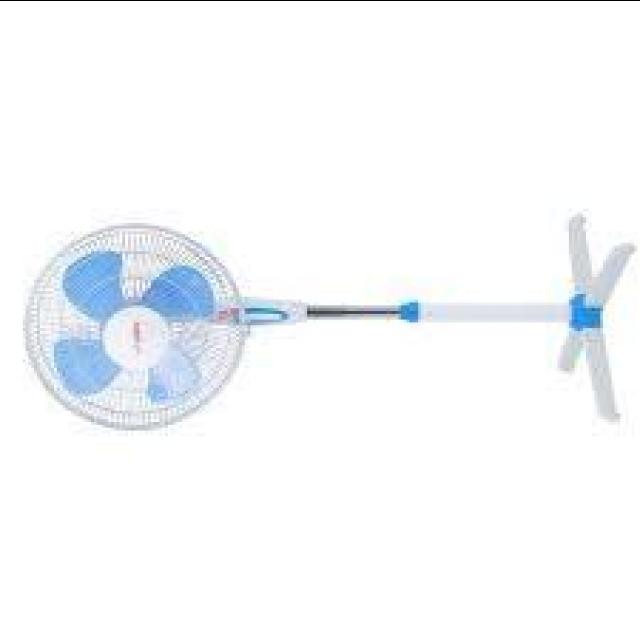fan: (19, 206, 635, 426)
